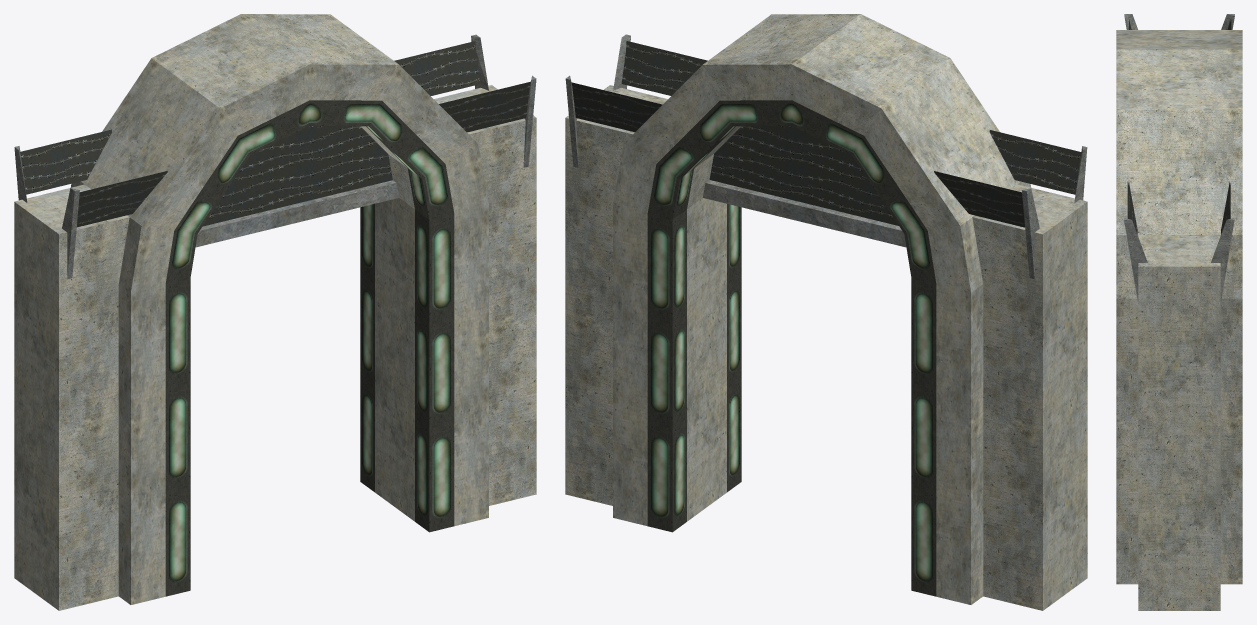
File: thm_corl_imprv_gate_sm_s03_l1.fbx
The picture shows the model from 3 angles, left to right: view 1: azimuth 30°, elevation 25°; view 2: azimuth 150°, elevation 25°; view 3: azimuth 270°, elevation 25°; orthographic projection. The views are drawn at different scales.
Visible parts, largest first — view 1: mesh_node; view 2: mesh_node; view 3: mesh_node.
Part boxes in pixels (x1,y1,x2,y2): mesh_node: (14,14,536,610); mesh_node: (565,14,1087,610); mesh_node: (1116,14,1242,610).
Size of the model in its own units: 8 by 7.95 by 2.
